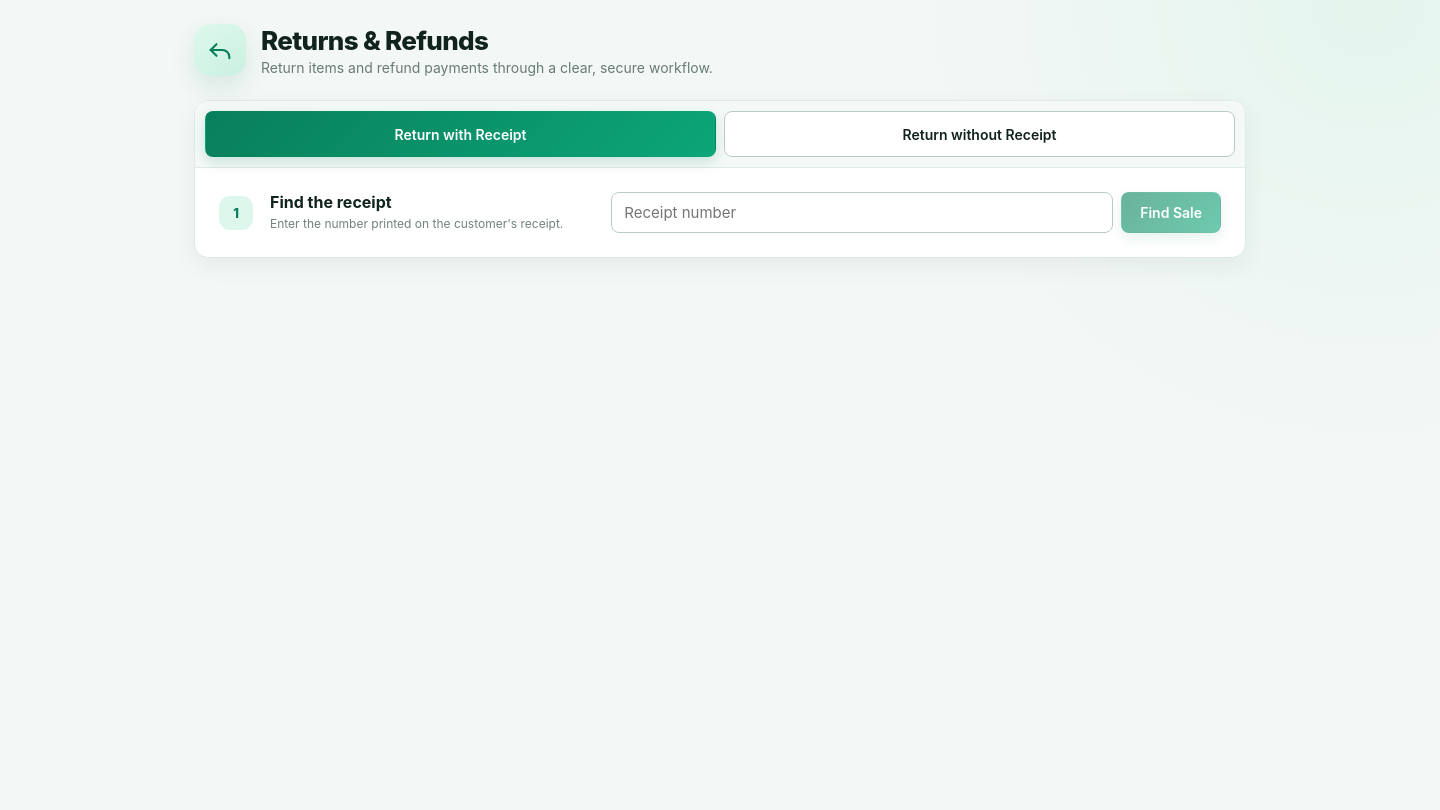
Test: ReturnsPage › shows immediate manager approval for a no-receipt return
Click the tab "Return without Receipt". click: x=980, y=134
box: x1=724 y1=111 x2=1235 y2=157
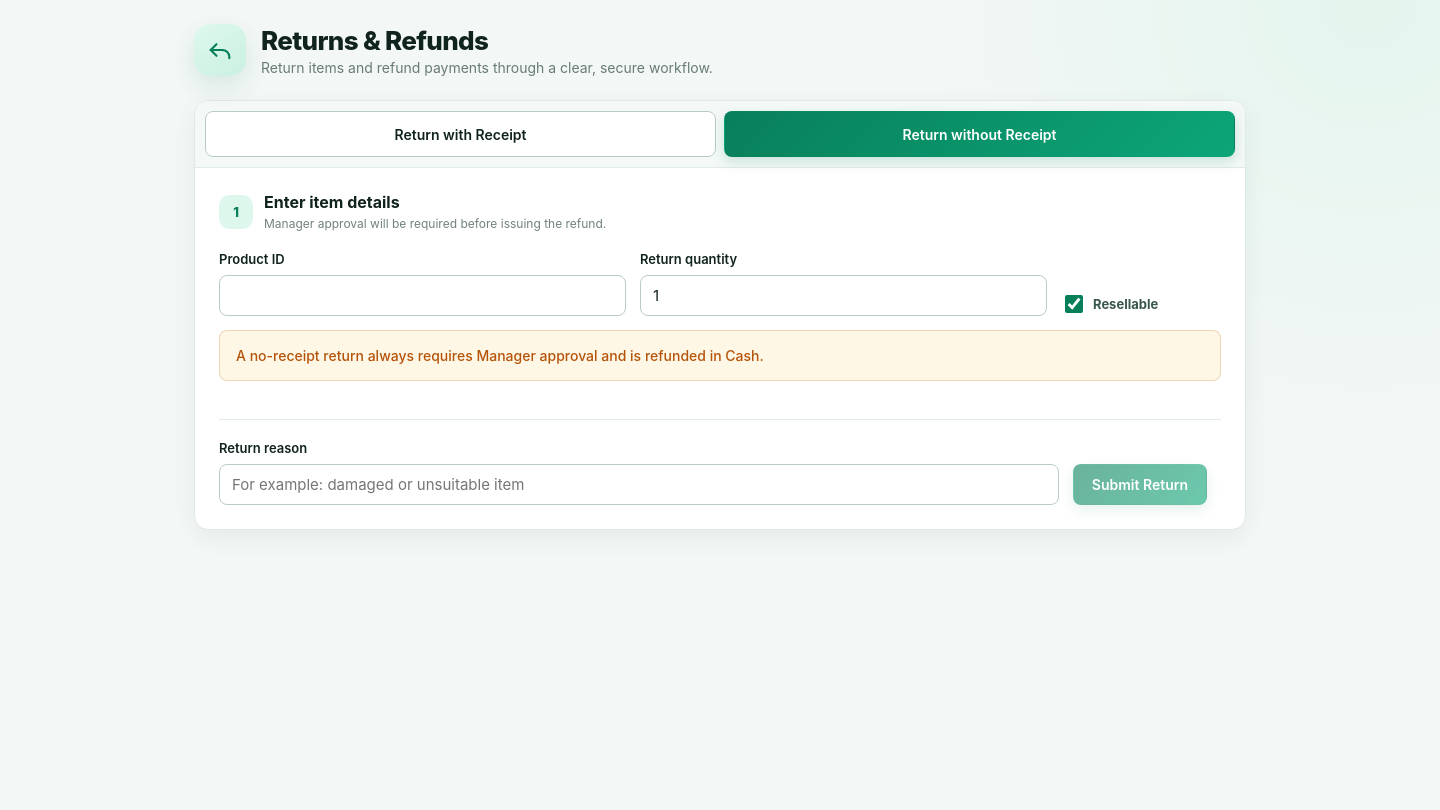
Type "2" into the number field named "Product ID". click: x=422, y=296
box: x1=219 y1=275 x2=626 y2=316
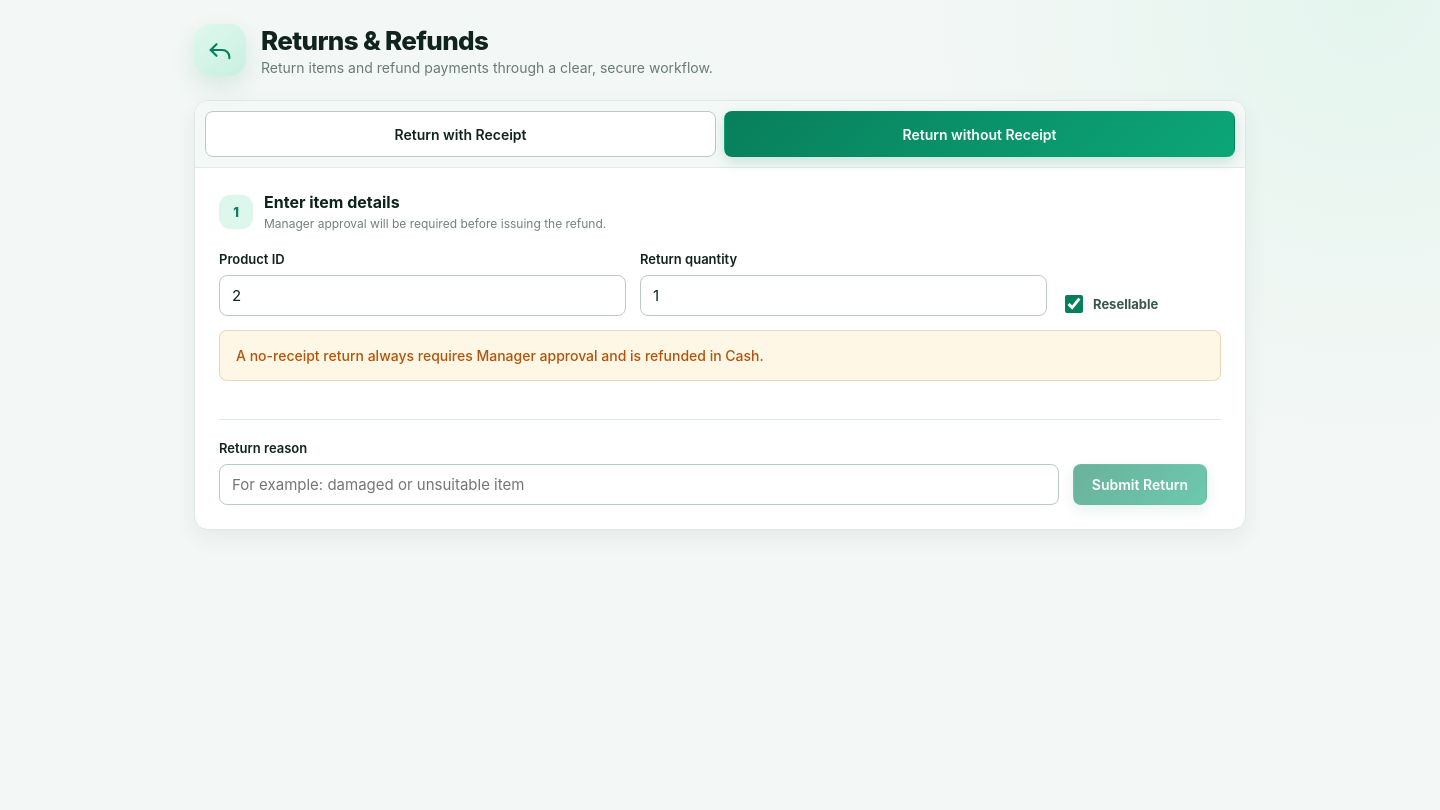
Type "No receipt" into the field named "Return reason". click: x=639, y=485
box: x1=219 y1=464 x2=1059 y2=505
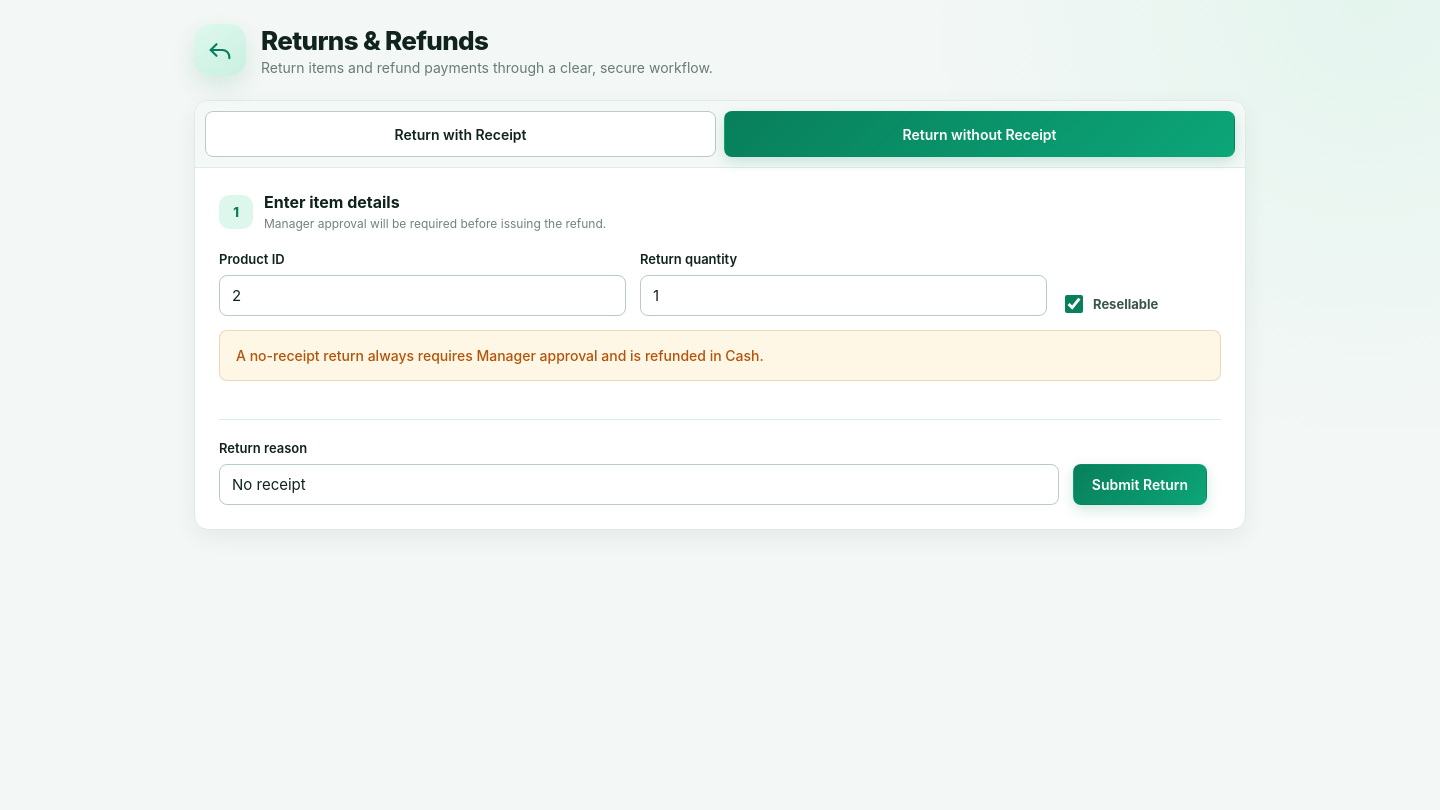
Click the button "Submit Return". click: x=1140, y=485
box: x1=1073 y1=464 x2=1207 y2=505
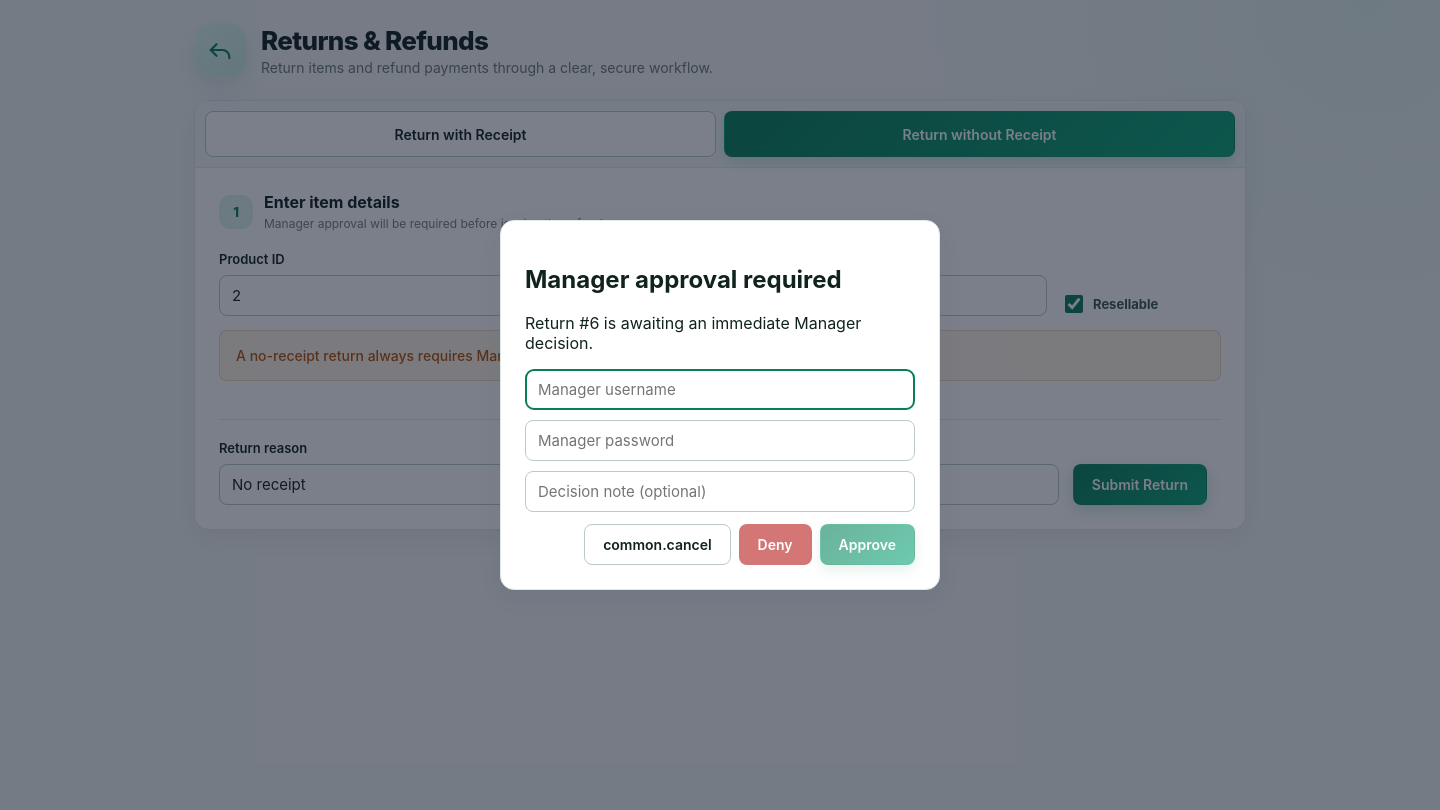
Now the dialog "Manager approval required" is shown
